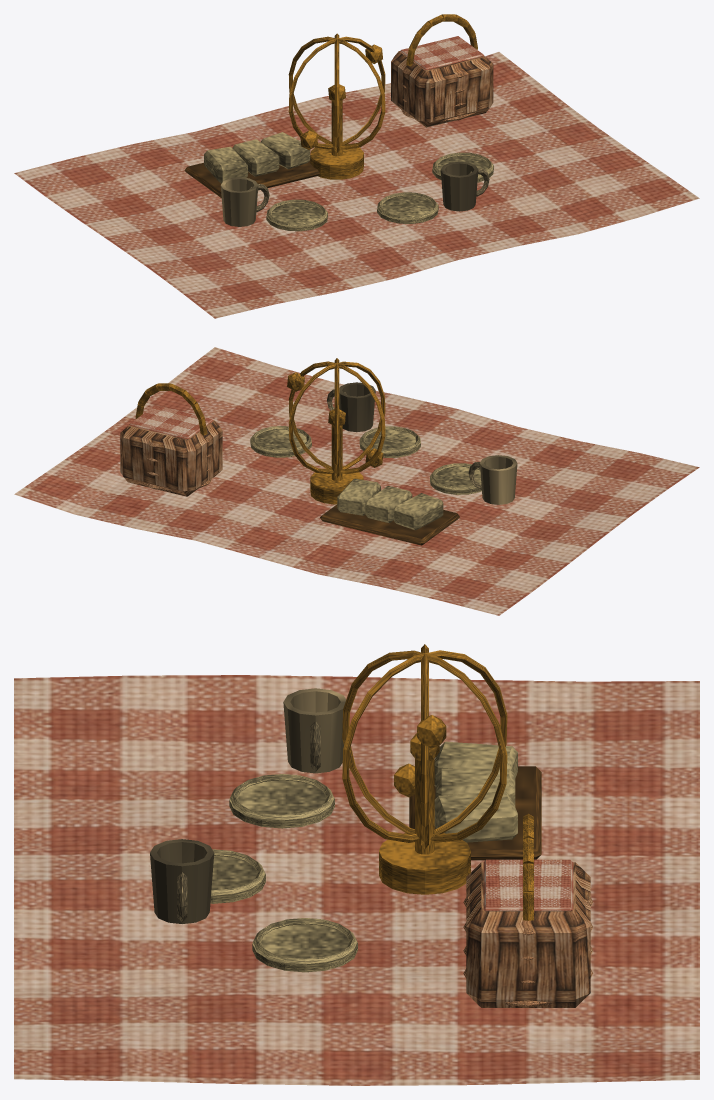
Rendered from center-picnic-blanket.glb.
3 renders of one model, top to bottom at view 1: azimuth 30°, elevation 25°; view 2: azimuth 150°, elevation 25°; view 3: azimuth 270°, elevation 25°, orthographic. The views are drawn at different scales.
Visible parts, largest first — view 1: center-picnic-blanket; view 2: center-picnic-blanket; view 3: center-picnic-blanket.
Part boxes in pixels (left/top/right/bottom): center-picnic-blanket: left=14, top=14, right=699, bottom=318; center-picnic-blanket: left=14, top=347, right=699, bottom=615; center-picnic-blanket: left=14, top=644, right=699, bottom=1085.
Bounding box in the file's own units: 8.31 × 2.25 × 5.96.
2 materials, 2 textured.
